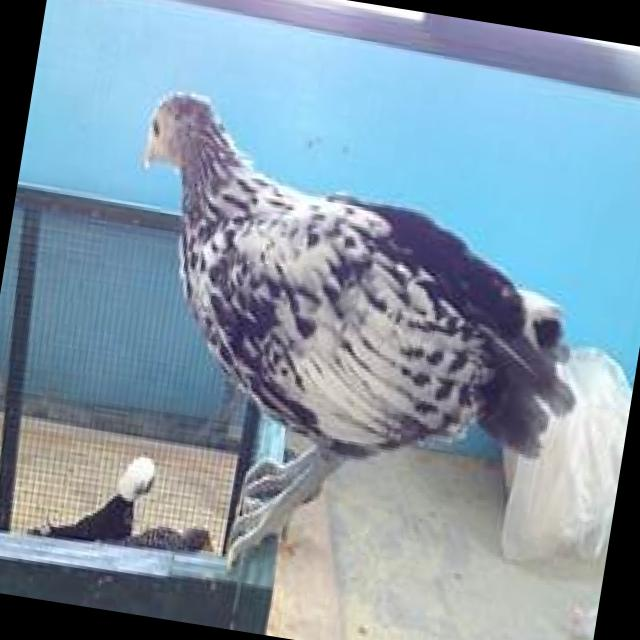chicken: (30, 57, 640, 565)
